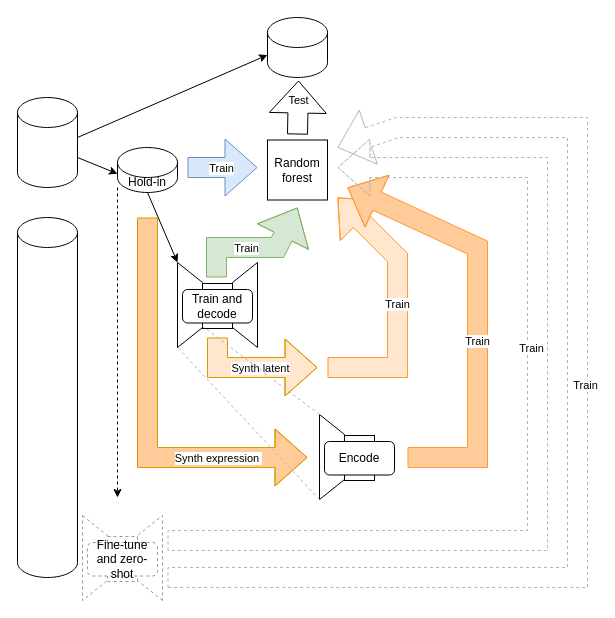
This 615x618 diagram has some shape labels left out. Each missing label, with the centre of its shape:
BRCA: [47,142]
Hold-out: [297,47]
TCGA: [47,397]
